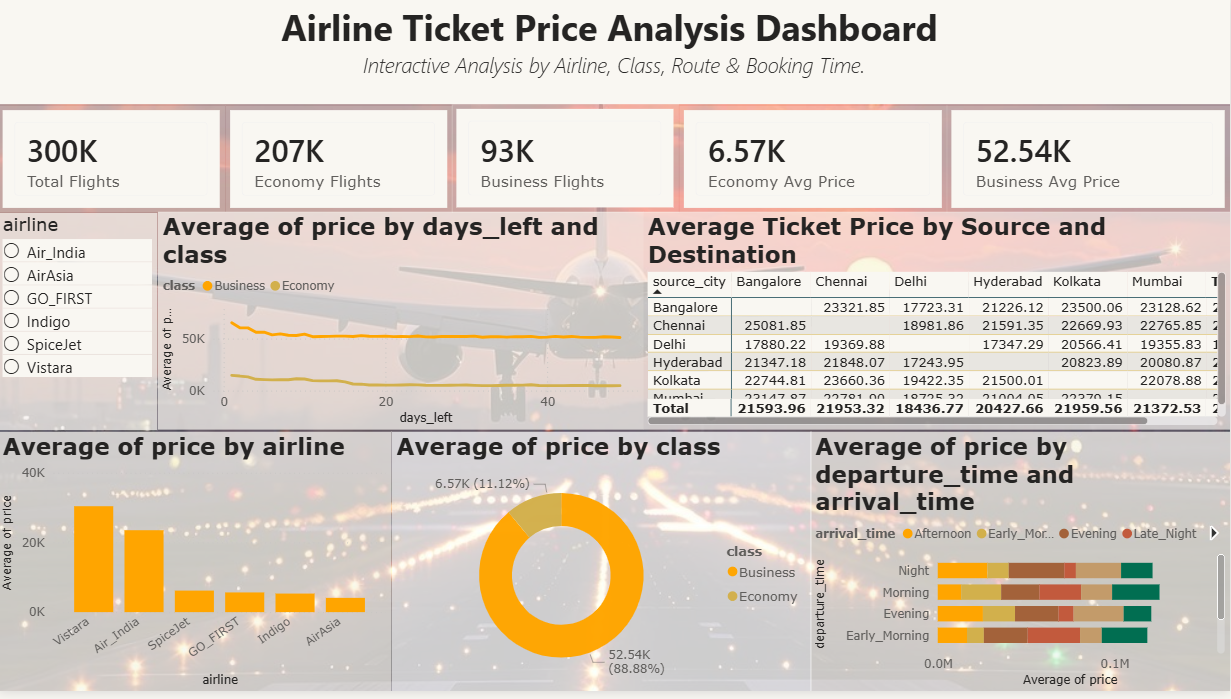

The dashboard page shown, as its layout file describes it:
{"tool":"powerbi","page":{"name":"Page 1","canvas":[1280,720],"ordinal":0},"visuals":[{"type":"clusteredColumnChart","fields":{"Category":["Clean_Dataset.airline"],"Y":["Avg(Clean_Dataset.price)"]},"box":[0,450,408.6,270],"z":0},{"type":"barChart","fields":{"Category":["Clean_Dataset.departure_time"],"Y":["Avg(Clean_Dataset.price)"],"Series":["Clean_Dataset.arrival_time"]},"box":[844.3,450,435.7,270],"z":1000},{"type":"pivotTable","title":"Average Ticket Price by Source and Destination","fields":{"Rows":["Clean_Dataset.source_city"],"Columns":["Clean_Dataset.destination_city"],"Values":["Avg(Clean_Dataset.price)"]},"box":[669.6,222.3,610.6,226.4],"z":2000},{"type":"donutChart","fields":{"Category":["Clean_Dataset.class"],"Y":["Avg(Clean_Dataset.price)"]},"box":[408.6,450,435.7,270],"z":3000},{"type":"lineChart","fields":{"Y":["Avg(Clean_Dataset.price)"],"Series":["Clean_Dataset.class"],"Category":["Clean_Dataset.days_left"]},"box":[166,222.3,503.6,226.4],"z":4000},{"type":"cardVisual","fields":{"Data":["Clean_Dataset.Total Flights"]},"box":[0,111.4,235.7,111.4],"z":5000},{"type":"cardVisual","fields":{"Data":["Clean_Dataset.Business Flights"]},"box":[471.4,110,235.7,112.9],"z":6000},{"type":"cardVisual","fields":{"Data":["Clean_Dataset.Economy Flights"]},"box":[235.7,111.4,235.7,111.4],"z":7000},{"type":"textbox","box":[0,0,1280,110],"z":8000},{"type":"listSlicer","fields":{"Values":["Clean_Dataset.airline"]},"box":[0,222.9,165.7,225.7],"z":9000},{"type":"cardVisual","fields":{"Data":["Clean_Dataset.Business Avg Price"]},"box":[985.7,111.4,294.3,111.4],"z":10000},{"type":"cardVisual","fields":{"Data":["Clean_Dataset.Economy Avg Price"]},"box":[707.1,111.4,278.6,111.4],"z":11000}]}

Visuals, with their boxes in screenshot pixels (x1, y1, x2, y2), scaled from the page's 1280x720 canvas onto the 1231x699 screenshot:
clusteredColumnChart - Clean_Dataset.airline x Avg(Clean_Dataset.price): BBox(0, 437, 393, 698)
barChart - Clean_Dataset.departure_time x Avg(Clean_Dataset.price): BBox(812, 437, 1230, 698)
"Average Ticket Price by Source and Destination" pivotTable: BBox(644, 216, 1230, 436)
donutChart - Clean_Dataset.class x Avg(Clean_Dataset.price): BBox(393, 437, 812, 698)
lineChart - Avg(Clean_Dataset.price) x Clean_Dataset.class: BBox(160, 216, 644, 436)
cardVisual - Clean_Dataset.Total Flights: BBox(0, 108, 227, 216)
cardVisual - Clean_Dataset.Business Flights: BBox(453, 107, 680, 216)
cardVisual - Clean_Dataset.Economy Flights: BBox(227, 108, 453, 216)
textbox: BBox(0, 0, 1230, 107)
listSlicer - Clean_Dataset.airline: BBox(0, 216, 159, 436)
cardVisual - Clean_Dataset.Business Avg Price: BBox(948, 108, 1230, 216)
cardVisual - Clean_Dataset.Economy Avg Price: BBox(680, 108, 948, 216)
